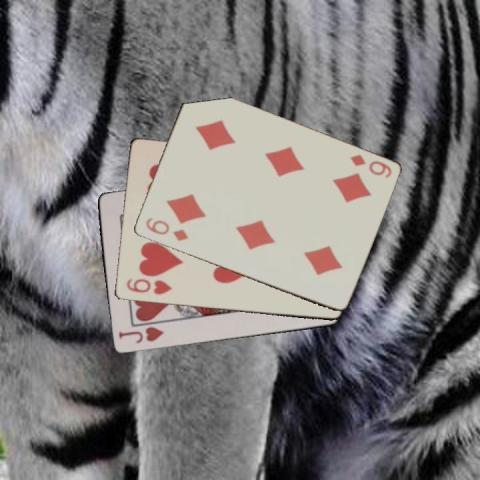6d: (142, 214, 190, 242), (346, 152, 392, 180)
6h: (124, 275, 174, 297)
Jh: (115, 324, 165, 345)
